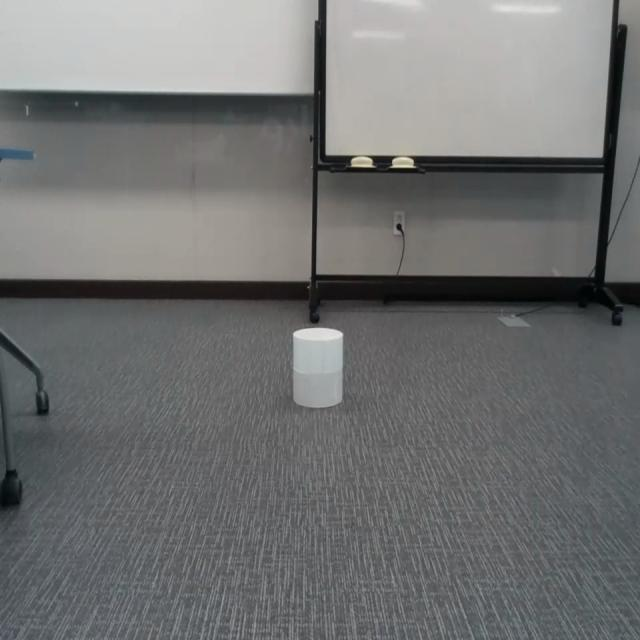cylinder: (292, 328, 344, 408)
